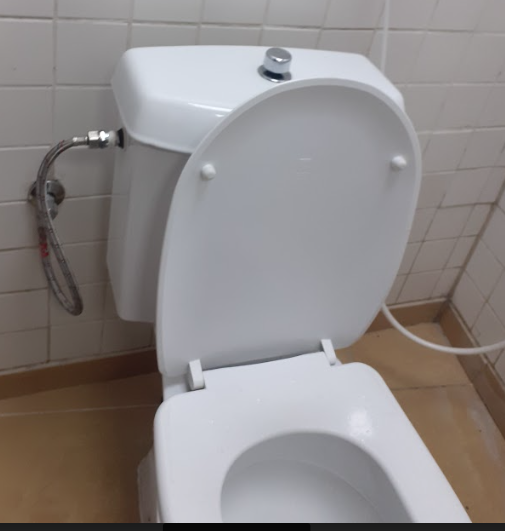Toilet: (20, 34, 481, 522)
